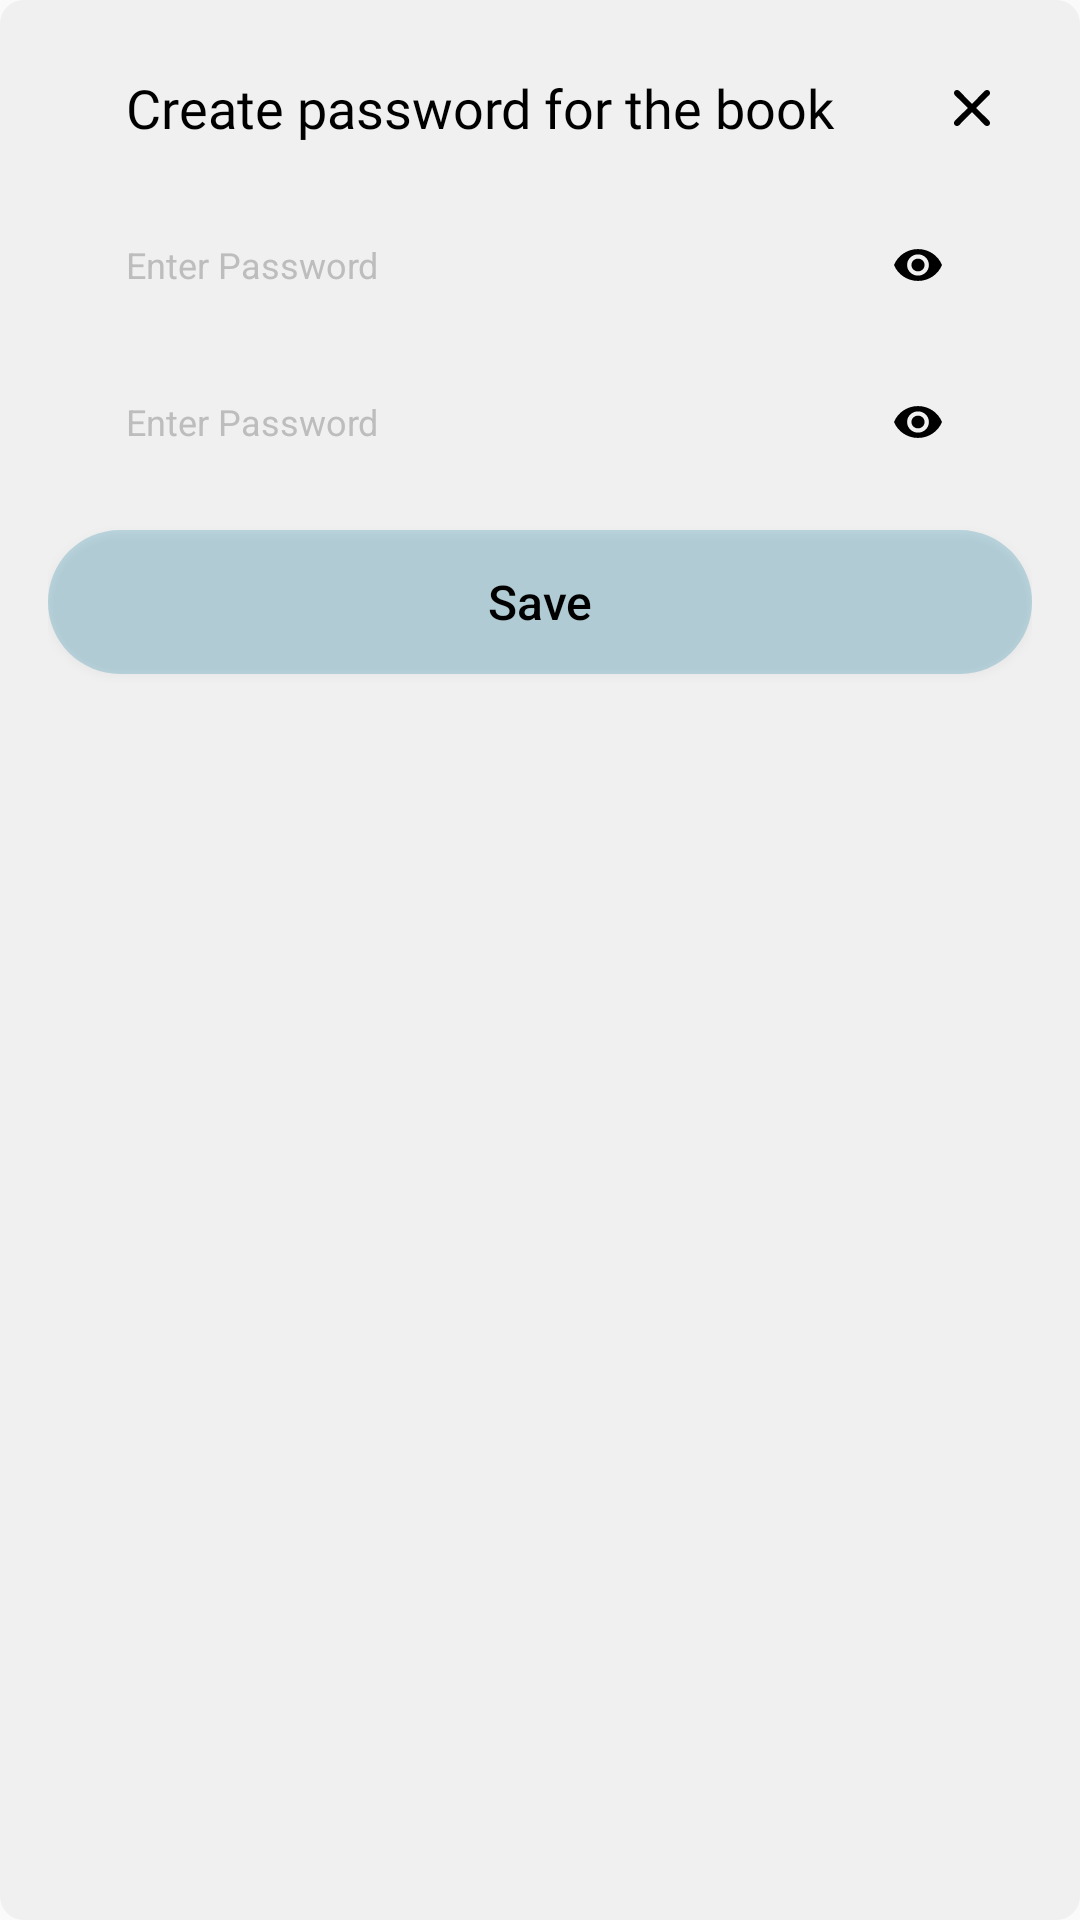

Point at icon controls on the screen. Image size 1080 x 1920, points as [x,y].
close: [972,108]
hide password: [918,265], [918,422]
